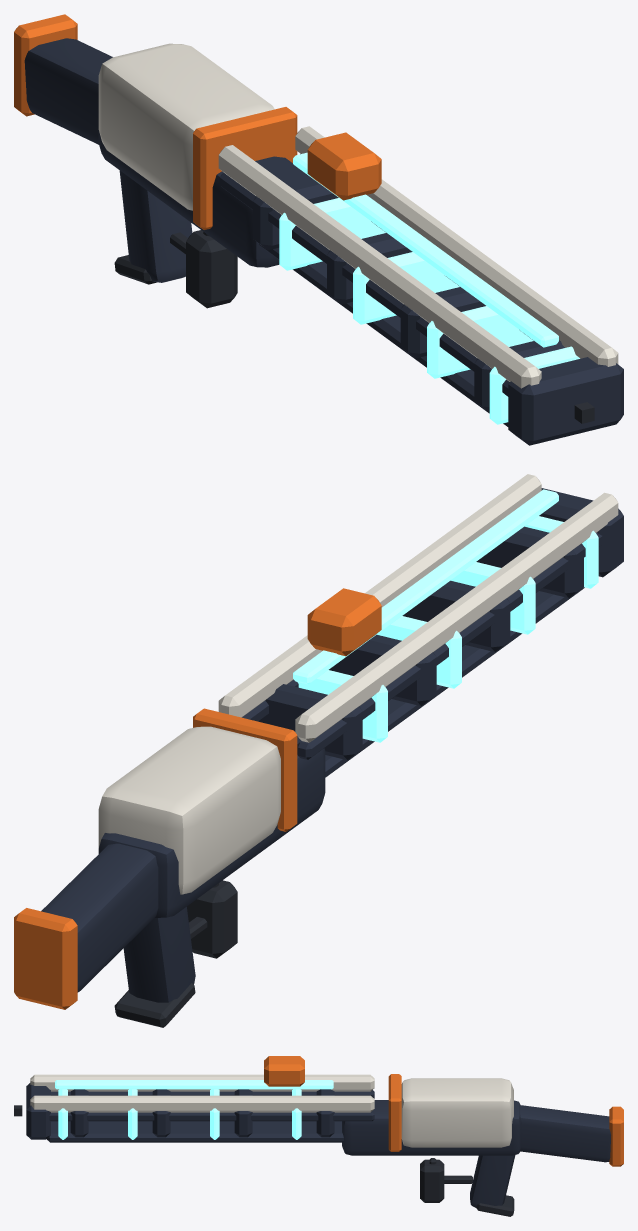
Rendered from wpn_rail_lance.fbx.
3 renders of one model, top to bottom at view 1: azimuth 30°, elevation 25°; view 2: azimuth 150°, elevation 25°; view 3: azimuth 270°, elevation 25°, orthographic. The views are drawn at different scales.
Visible parts, largest first — view 1: Body, Coils; view 2: Body, Coils; view 3: Body, Coils.
Part boxes in pixels (x1,y1,x2,y2): Body: (14, 14, 623, 445); Coils: (279, 152, 579, 424); Body: (14, 474, 623, 1027); Coils: (293, 489, 598, 742); Body: (26, 1056, 623, 1216); Coils: (55, 1080, 333, 1139).
Bounding box in the file's own units: 0.84 × 2.03 × 7.44.
3 materials, 1 textured.
